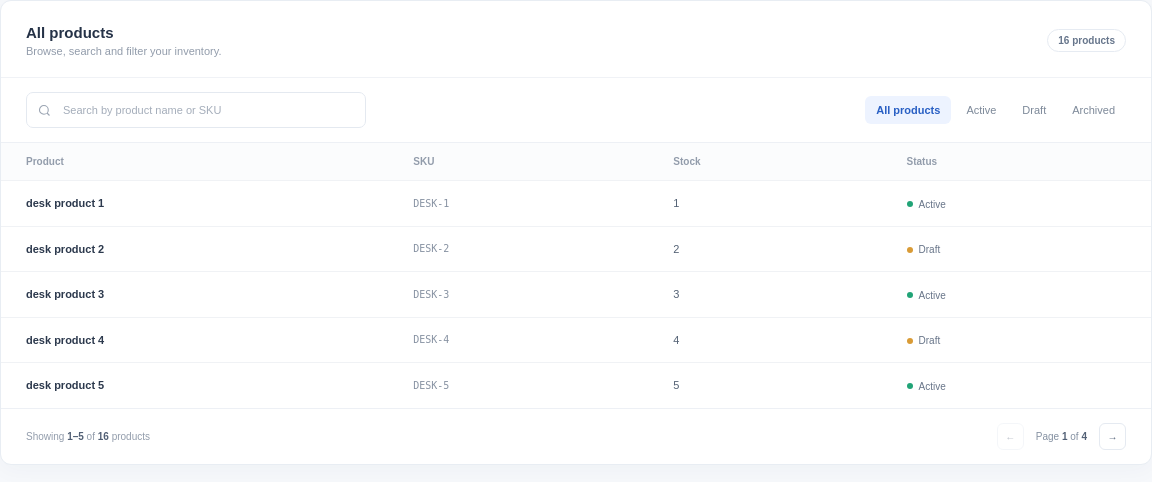
Scenario: Catalogue component › resets to page one when search or status changes and exposes labelled controls
Later steps or results of the test are not shown.
Expected: the text "desk product 1" is shown, [1,180,388,226]
Click the button named "Next page": (1112, 436) [1099,422,1126,450]
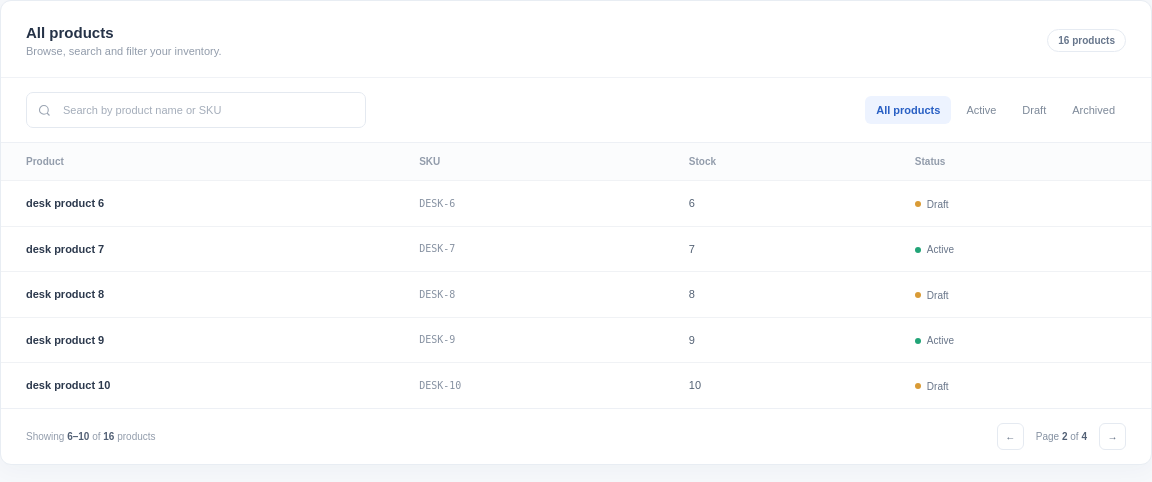
Expected: the text "desk product 6" is shown, [1,180,394,226]
In the search field named "Search products by name or SKU": (208, 110) [61,103,355,117], type "lamp"
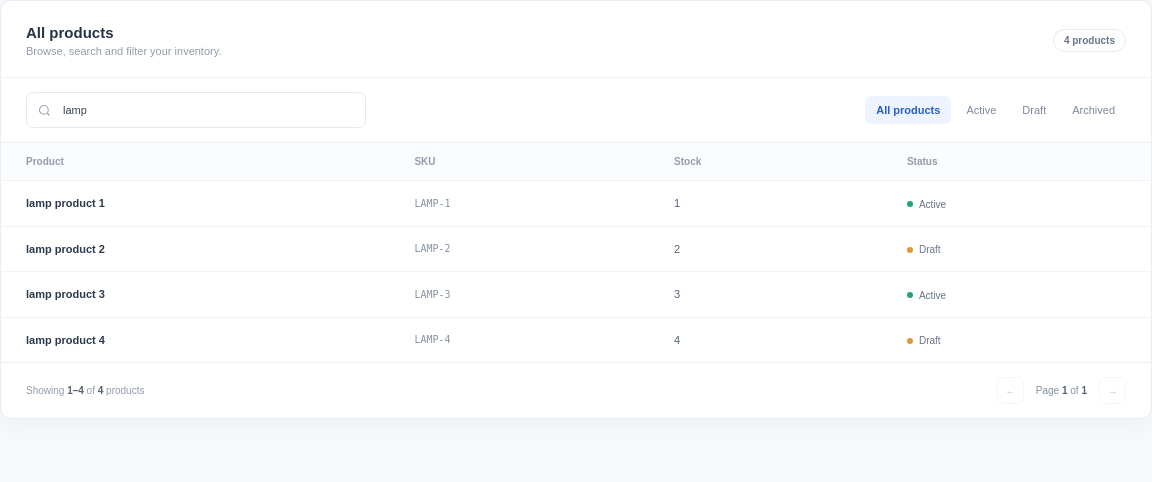
Expected: the text "lamp product 1" is shown, [1,180,389,226]
Expected: the navigation bar named "Catalogue pagination" shows "Page 1 of 1", [997,377,1126,404]
